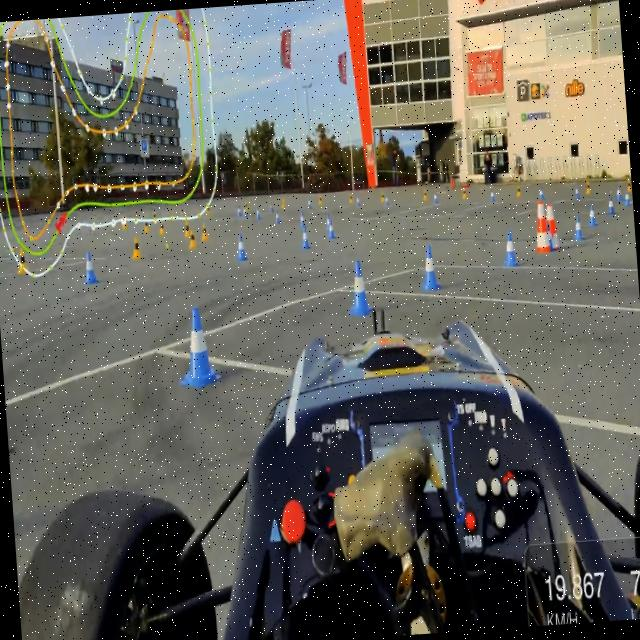blue_cone: (177, 298, 221, 392), (346, 255, 372, 318), (418, 241, 440, 293), (502, 230, 519, 268), (82, 249, 97, 286), (542, 215, 554, 255), (570, 210, 584, 244), (236, 230, 247, 262), (586, 200, 596, 227), (300, 224, 308, 248), (624, 188, 632, 210), (606, 194, 614, 214), (573, 184, 581, 203), (328, 218, 334, 237), (616, 184, 622, 202), (538, 186, 544, 204), (300, 210, 306, 228), (274, 208, 281, 222), (255, 204, 261, 220)
large_orange_cone: (533, 198, 550, 255), (546, 202, 560, 251)
yellow_cone: (14, 244, 28, 276), (130, 233, 142, 261), (188, 228, 196, 252), (200, 220, 208, 242), (183, 217, 190, 240), (158, 218, 166, 238), (584, 178, 592, 198), (142, 217, 150, 236), (625, 175, 632, 194)
